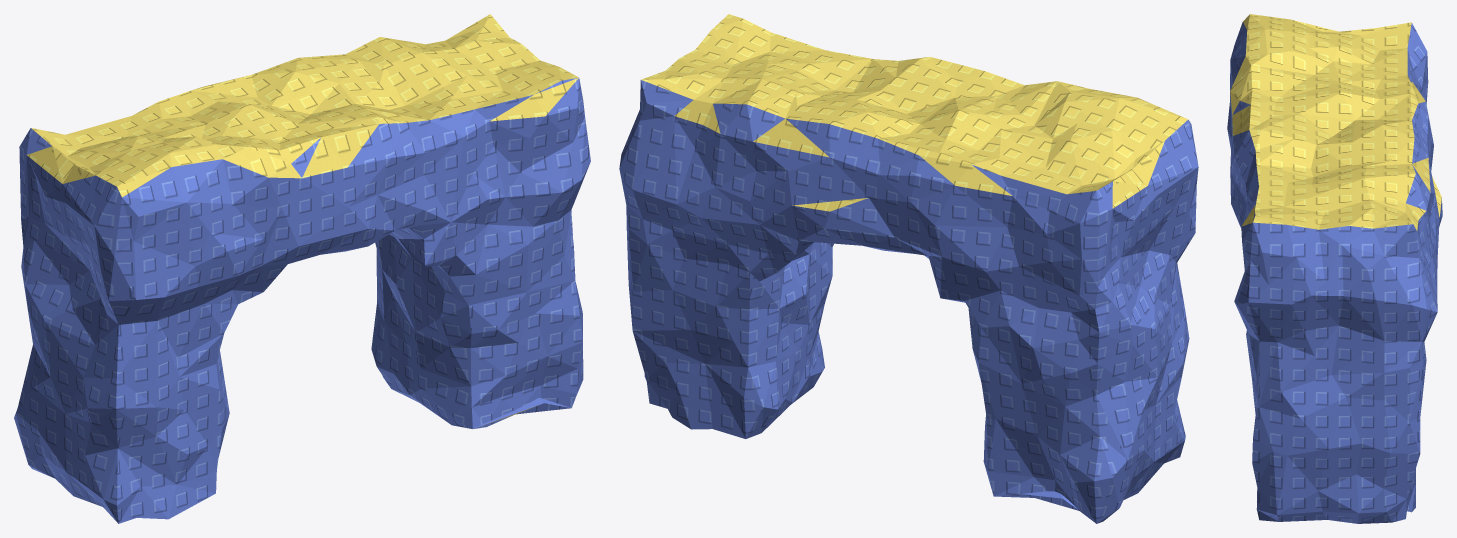
File: ReefArch.glb
3 views of the same model, side by side, from view 1: azimuth 30°, elevation 25°; view 2: azimuth 150°, elevation 25°; view 3: azimuth 270°, elevation 25° (orthographic). The views are drawn at different scales.
Parts seen in each view (by area): view 1: ReefArch_Rock, ReefArch_Top; view 2: ReefArch_Rock, ReefArch_Top; view 3: ReefArch_Rock, ReefArch_Top.
Boxes of the visible parts, bbox=[...] form: ReefArch_Rock: bbox=[14, 77, 590, 523]; ReefArch_Top: bbox=[27, 14, 578, 425]; ReefArch_Rock: bbox=[619, 80, 1198, 523]; ReefArch_Top: bbox=[641, 14, 1187, 211]; ReefArch_Rock: bbox=[1227, 22, 1442, 523]; ReefArch_Top: bbox=[1230, 14, 1441, 231].
Size of the model in its own units: 23.03 by 15.81 by 9.4.
Materials: 2 (2 with a texture image).
